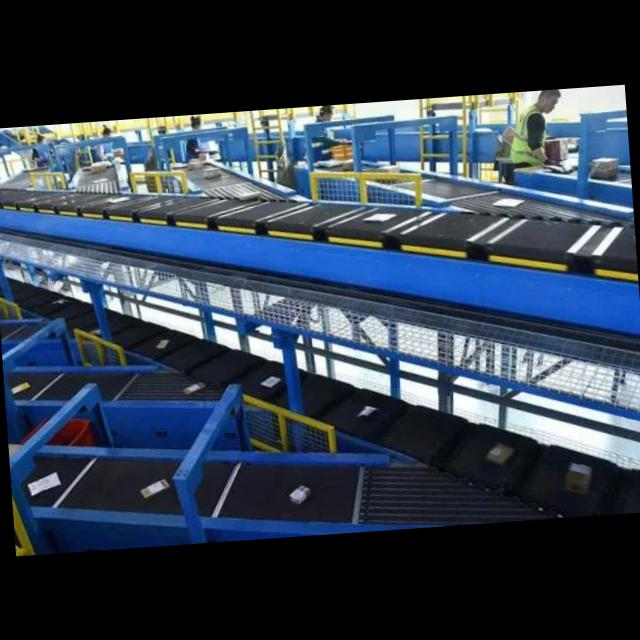box: (564, 462, 591, 494), (590, 157, 617, 178), (290, 485, 310, 503), (188, 158, 203, 170), (90, 163, 107, 172), (204, 168, 220, 177)
mailer: (29, 472, 59, 495), (486, 442, 513, 464), (142, 478, 169, 498), (365, 213, 395, 221), (492, 200, 523, 207), (357, 406, 376, 416), (12, 382, 29, 393), (185, 384, 205, 393), (261, 378, 279, 386), (156, 338, 168, 348), (108, 199, 128, 202), (52, 300, 68, 303)
